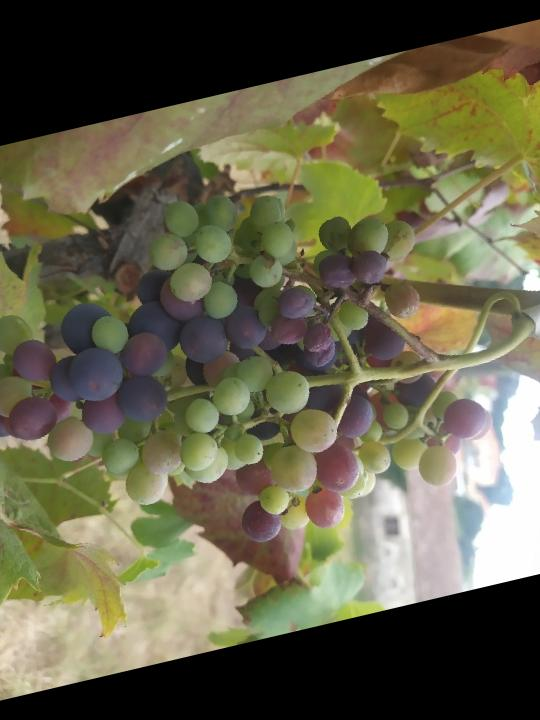grape: (0, 136, 513, 611)
